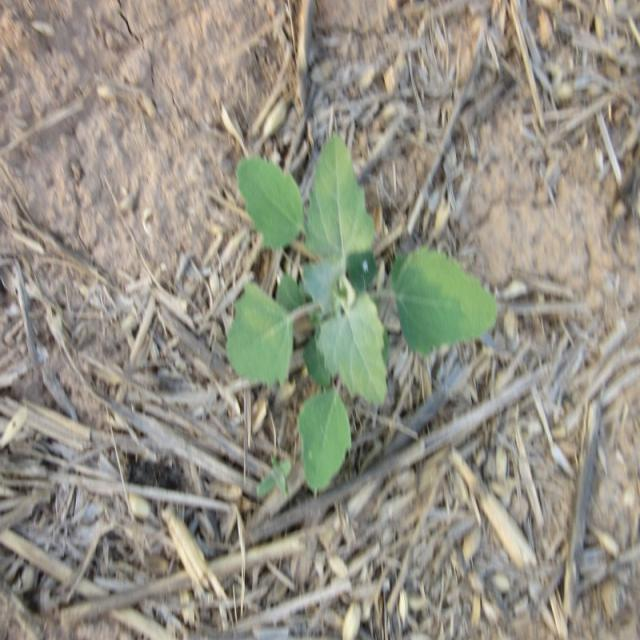ca: (236, 142, 501, 489)
